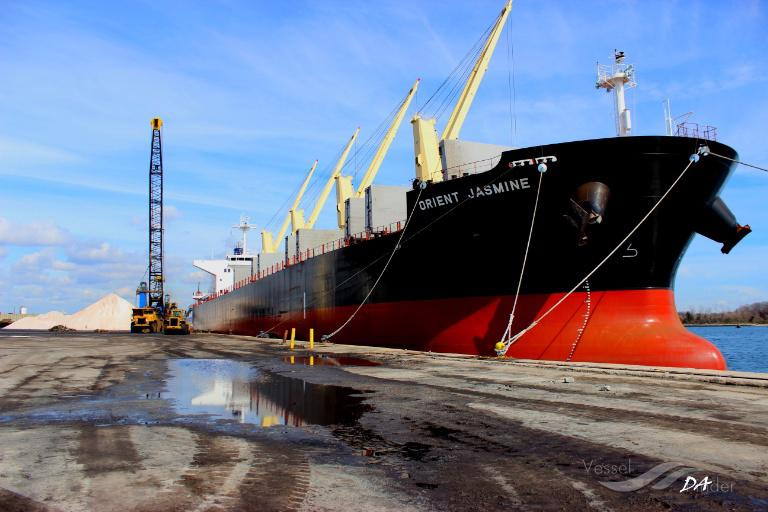OCR: (403, 176, 536, 214)
